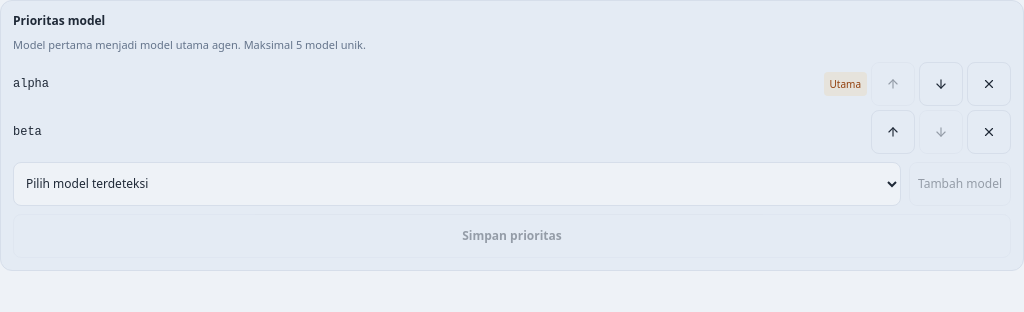
Test case: ModelPriorityEditor › loads saved ordering, reorders and verifies persistence before reporting success
Expected: the text "alpha" is shown, [13, 76, 49, 90]
Expected: the text "Utama" is shown, [824, 72, 867, 96]
Click the button named "Naikkan beta".
click(893, 132)  # box [871, 110, 915, 154]
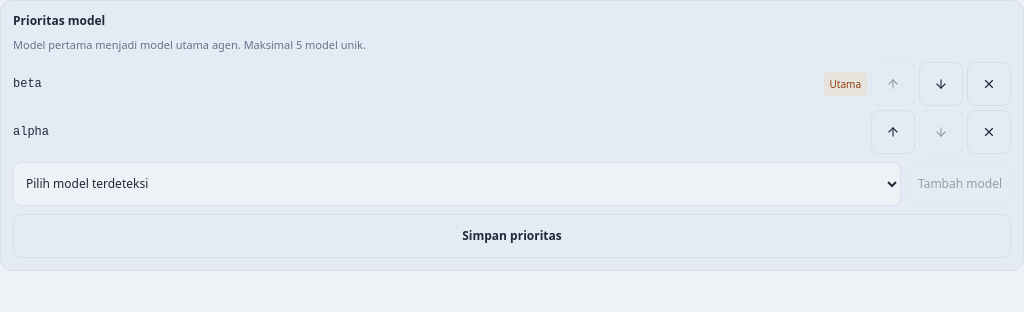
Click the button "Simpan prioritas".
click(512, 236)  # box [13, 214, 1011, 258]
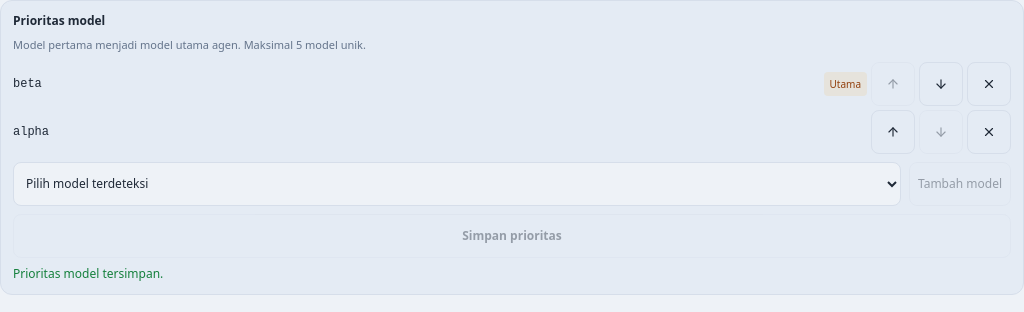
Result: the text "Prioritas model tersimpan." is shown at [13, 264, 163, 282]
